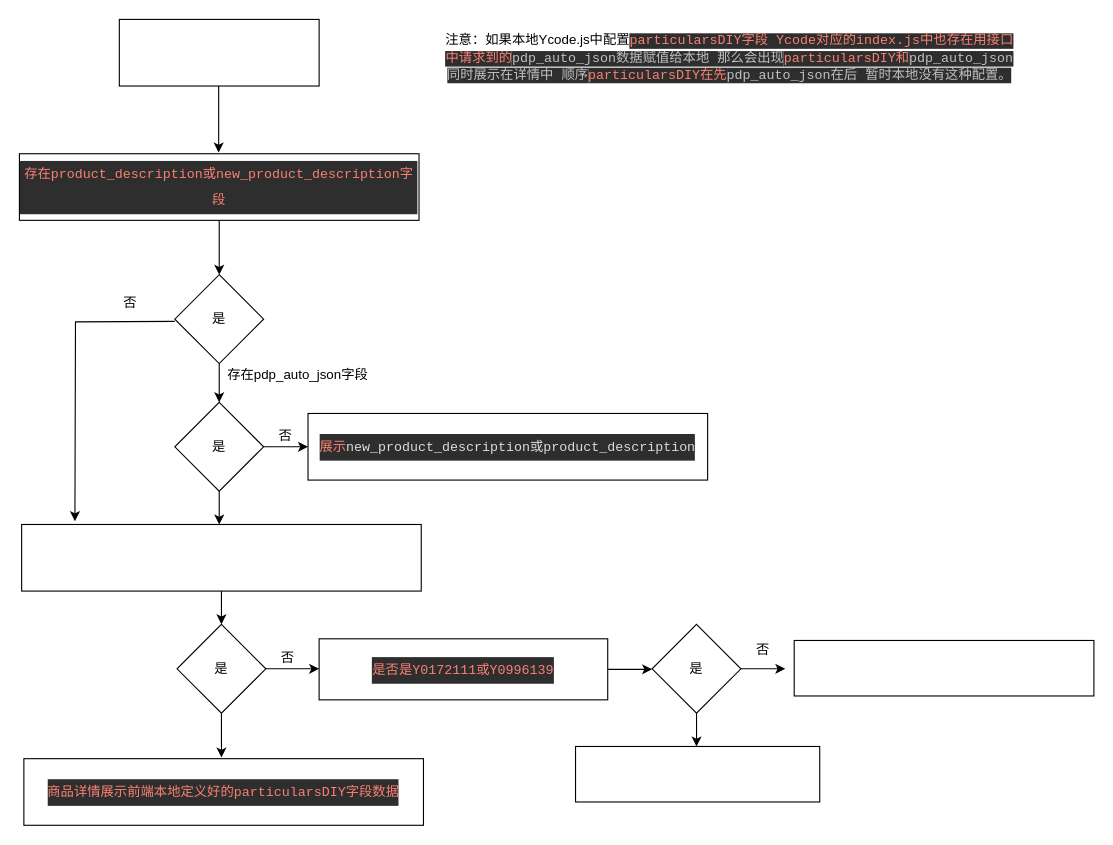
The diagram is 1113 pixels wide and 845 high, and some of its shapes have lost their labels. The shapes that lost their labels are listed below. From the top down, each one's centre as x and y in pixels, then its label:
the point at 218,52: pdp商品详情展示逻辑优先级
the point at 221,557: 是否是 Y0812001或 Y0821001或 Y0821002
the point at 943,667: 读取magento后台配置的 pdp_auto_json 数据
the point at 697,773: 完全读取前端本地写死数据
